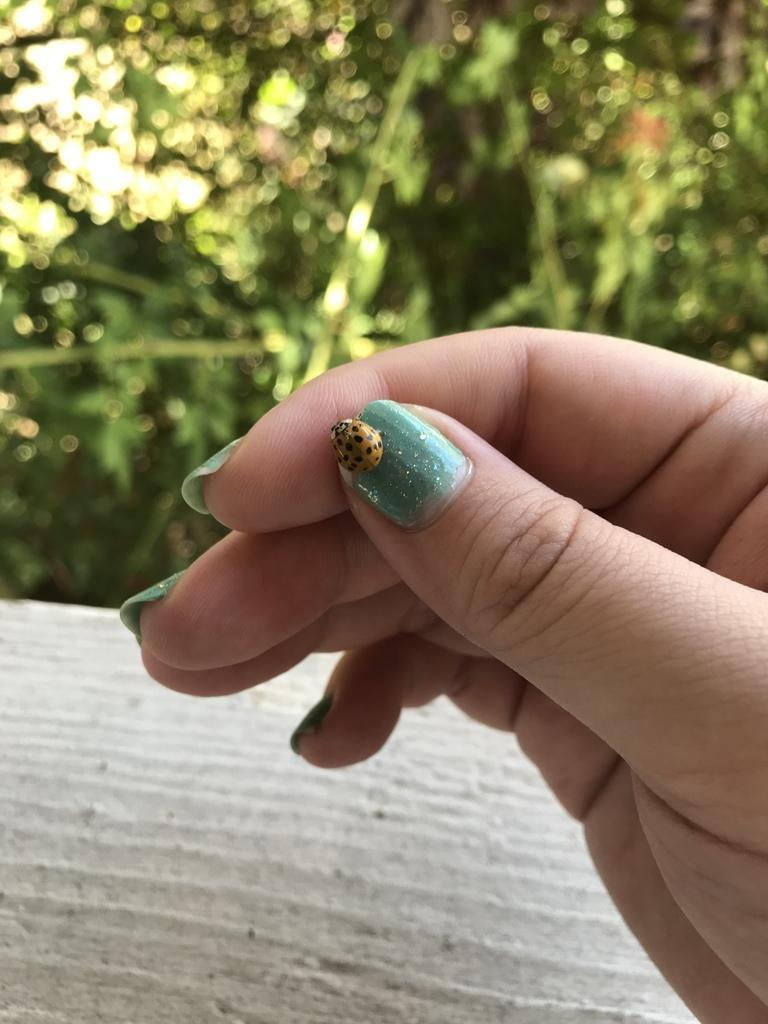ladybug: (329, 411, 389, 476)
